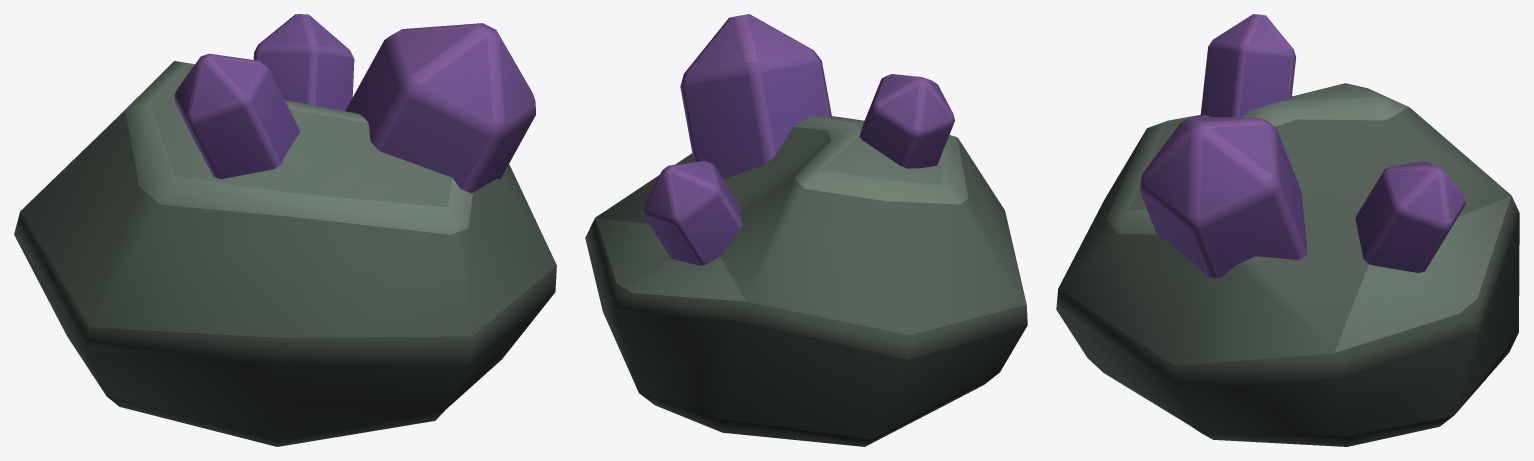
File: ore_christal_amethyst_S.fbx
The picture shows the model from 3 angles, left to right: view 1: azimuth 30°, elevation 25°; view 2: azimuth 150°, elevation 25°; view 3: azimuth 270°, elevation 25°; orthographic projection. The views are drawn at different scales.
Visible parts, largest first — view 1: ore_christal_amethyst_S; view 2: ore_christal_amethyst_S; view 3: ore_christal_amethyst_S.
Boxes of the visible parts, x1=… form: ore_christal_amethyst_S: x1=14, y1=14, x2=556, y2=446; ore_christal_amethyst_S: x1=585, y1=14, x2=1027, y2=446; ore_christal_amethyst_S: x1=1056, y1=14, x2=1519, y2=446.
Size of the model in its own units: 115 by 96.07 by 110.
1 material, 1 textured.
